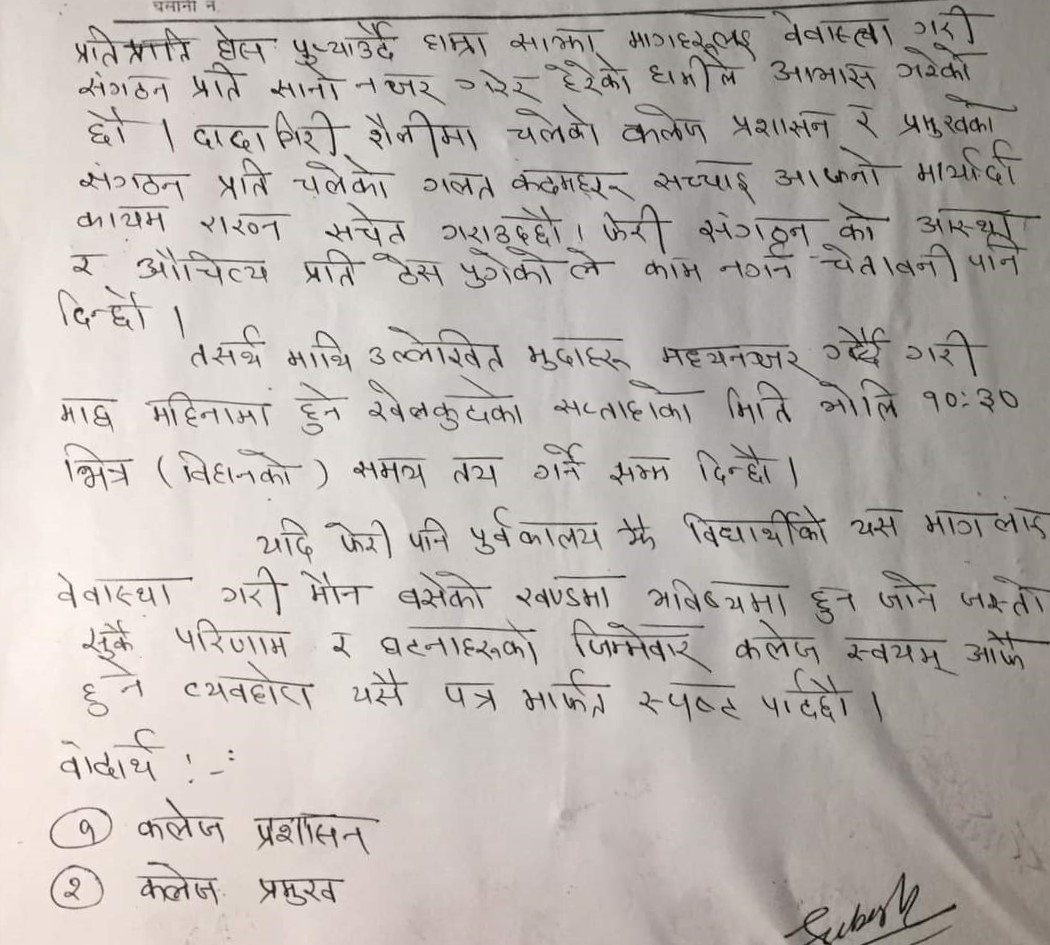text: (360, 376, 526, 438), (377, 620, 544, 669), (678, 498, 833, 550), (361, 323, 510, 375), (465, 504, 604, 558), (183, 659, 316, 715), (193, 108, 341, 156), (551, 381, 696, 429), (643, 573, 791, 619), (437, 197, 568, 248), (133, 243, 278, 288), (560, 616, 700, 662), (54, 726, 160, 786), (361, 105, 479, 158), (757, 665, 856, 726), (251, 811, 376, 859), (171, 445, 298, 492), (500, 95, 602, 153), (655, 338, 810, 376), (817, 244, 962, 284), (49, 569, 185, 610), (171, 616, 294, 661), (895, 92, 1005, 142), (70, 23, 194, 67), (518, 665, 612, 723), (145, 389, 272, 431), (287, 21, 402, 67), (287, 153, 396, 201), (52, 281, 150, 334), (637, 678, 743, 727), (695, 201, 812, 245), (618, 98, 715, 149), (768, 148, 887, 189), (133, 856, 223, 910), (730, 617, 826, 667), (133, 794, 229, 844), (773, 12, 896, 51), (914, 143, 1018, 189), (838, 634, 954, 675), (649, 155, 757, 199), (320, 198, 413, 249), (811, 371, 904, 422), (922, 503, 1050, 540), (510, 166, 637, 203), (526, 333, 630, 378), (391, 567, 490, 614), (454, 244, 557, 288), (767, 54, 880, 94), (727, 104, 835, 145), (955, 572, 1050, 618), (77, 160, 188, 199), (512, 573, 617, 614), (693, 438, 779, 488), (621, 23, 752, 55), (78, 660, 150, 717), (185, 322, 265, 373), (60, 438, 133, 493), (641, 54, 740, 94), (895, 42, 977, 88), (251, 870, 338, 912), (722, 378, 795, 428), (902, 325, 978, 373), (914, 202, 1021, 236), (545, 58, 637, 97), (816, 321, 887, 371), (288, 377, 345, 439), (284, 326, 356, 375), (194, 206, 289, 243), (921, 383, 1024, 417), (593, 203, 667, 250), (218, 564, 289, 612), (322, 515, 396, 561), (74, 199, 168, 234), (450, 65, 543, 100), (872, 567, 941, 614), (76, 70, 174, 103), (715, 244, 796, 283), (267, 65, 345, 104), (350, 72, 441, 105), (373, 250, 448, 290), (299, 566, 367, 610), (963, 630, 1032, 673), (213, 154, 272, 204), (349, 662, 409, 711), (254, 514, 316, 561), (528, 438, 587, 487), (299, 245, 360, 292), (846, 501, 911, 545), (187, 58, 246, 105), (964, 234, 1027, 277), (908, 4, 983, 40), (349, 454, 430, 487), (415, 169, 498, 201), (639, 247, 705, 287), (805, 581, 861, 628), (506, 27, 604, 53), (79, 615, 135, 660), (606, 454, 674, 490), (443, 675, 502, 716), (421, 26, 490, 61), (828, 197, 879, 244), (55, 394, 116, 432), (80, 105, 133, 148), (207, 23, 268, 60), (446, 451, 506, 486), (407, 514, 456, 556), (617, 511, 663, 551), (844, 99, 883, 143), (67, 247, 101, 277), (327, 627, 355, 662)
